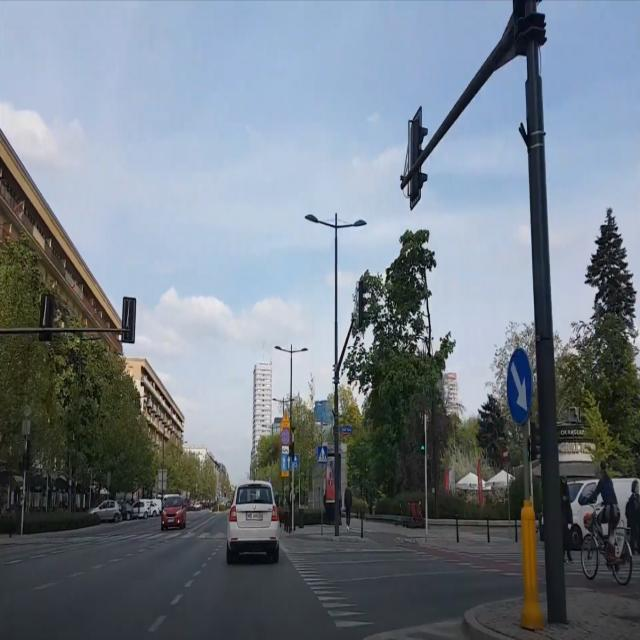Zakaz zatrzymywania sie: (280, 429, 290, 444)
